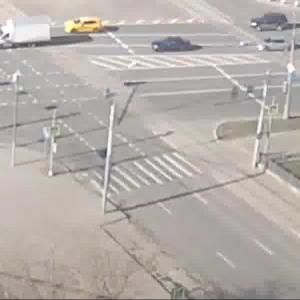car: (1, 17, 56, 50), (152, 35, 195, 60), (62, 13, 103, 37), (243, 16, 291, 34), (263, 36, 292, 52)
